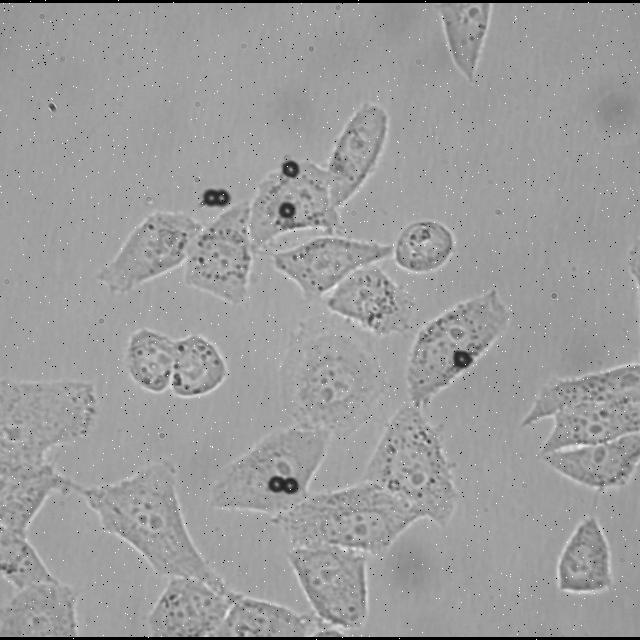microbeads: (451, 351, 477, 371), (278, 160, 298, 182), (268, 472, 284, 496), (280, 203, 298, 223), (282, 476, 300, 496)
